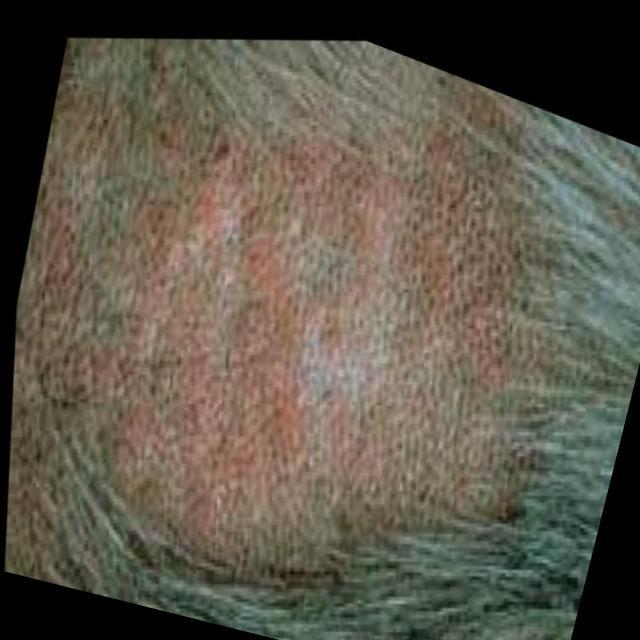allergic dermatitis: (61, 96, 522, 579)
